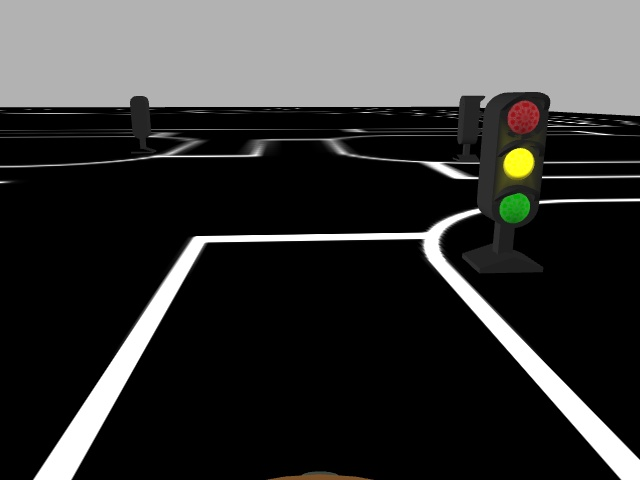yellow_light: (487, 91, 550, 228)
